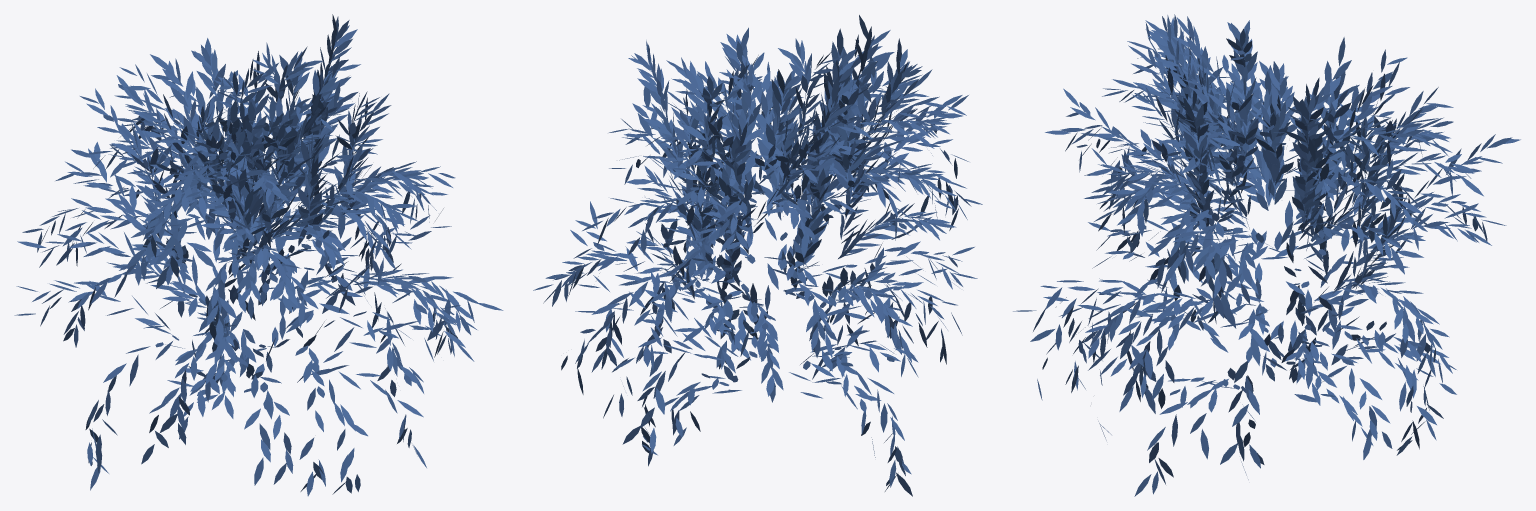
The model's file is tree-winter-leaves-misc-002-038.glb.
3 views of the same model, side by side, from view 1: azimuth 30°, elevation 25°; view 2: azimuth 150°, elevation 25°; view 3: azimuth 270°, elevation 25° (orthographic). The views are drawn at different scales.
Visible parts, largest first — view 1: leaves.002_181; view 2: leaves.002_181; view 3: leaves.002_181.
Boxes of the visible parts, bbox=[...] form: leaves.002_181: bbox=[14, 14, 503, 496]; leaves.002_181: bbox=[533, 15, 982, 496]; leaves.002_181: bbox=[1013, 14, 1520, 496].
Bounding box in the file's own units: 1.58 × 1.67 × 1.82.
